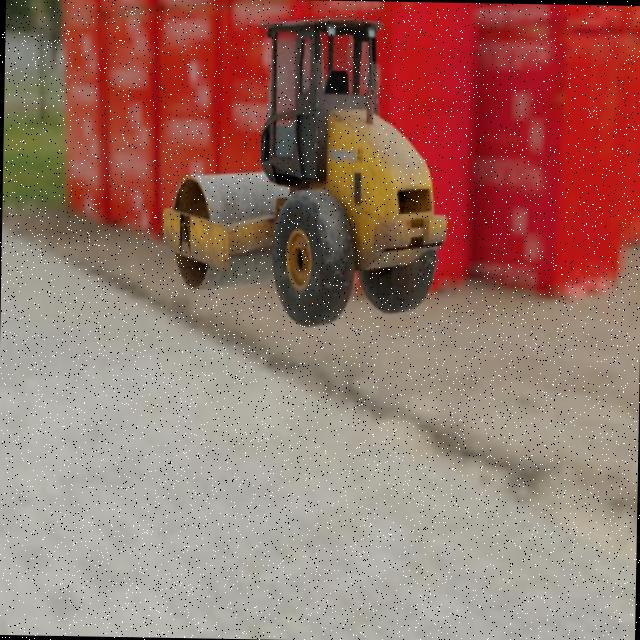Roller: (160, 13, 450, 329)
